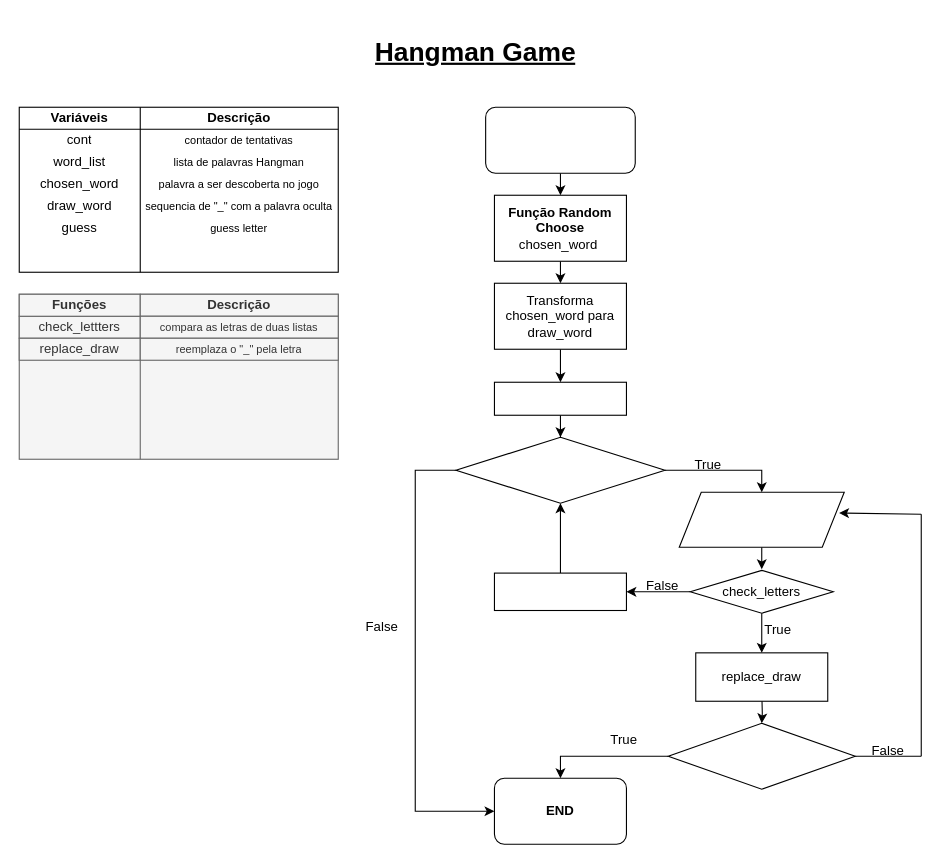
Image size: 949x864. Some labels were removed from this diagram. The shapes that lost their labels are listed below. From the top down, each one's centre as x and y in pixels, then its label:
[560,139]: START
[559,398]: cont = 0
[560,469]: if cont <=5:
[761,519]: guess = "Ingresse uma letra"
[559,591]: cont += 1
[761,755]: draw_word = chosen_word
